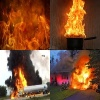fire: (0, 2, 50, 50), (64, 0, 86, 37), (10, 68, 27, 99), (71, 65, 92, 88), (28, 92, 42, 97), (92, 83, 98, 90), (48, 91, 50, 94)
